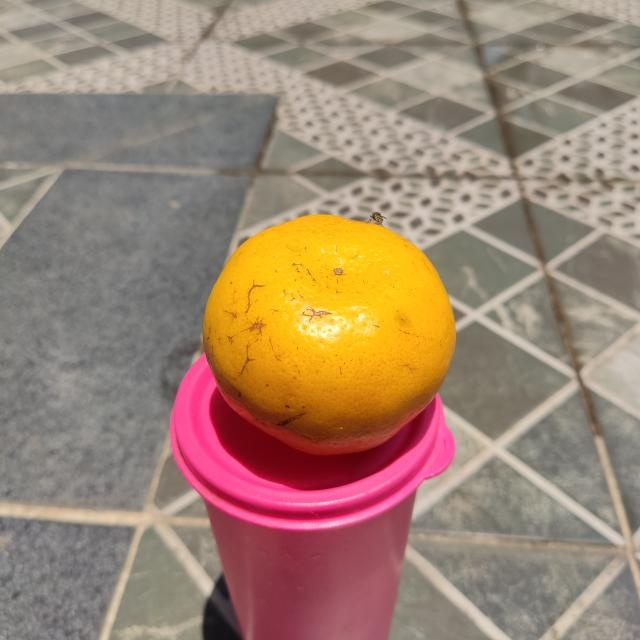agrume: (194, 215, 457, 460)
